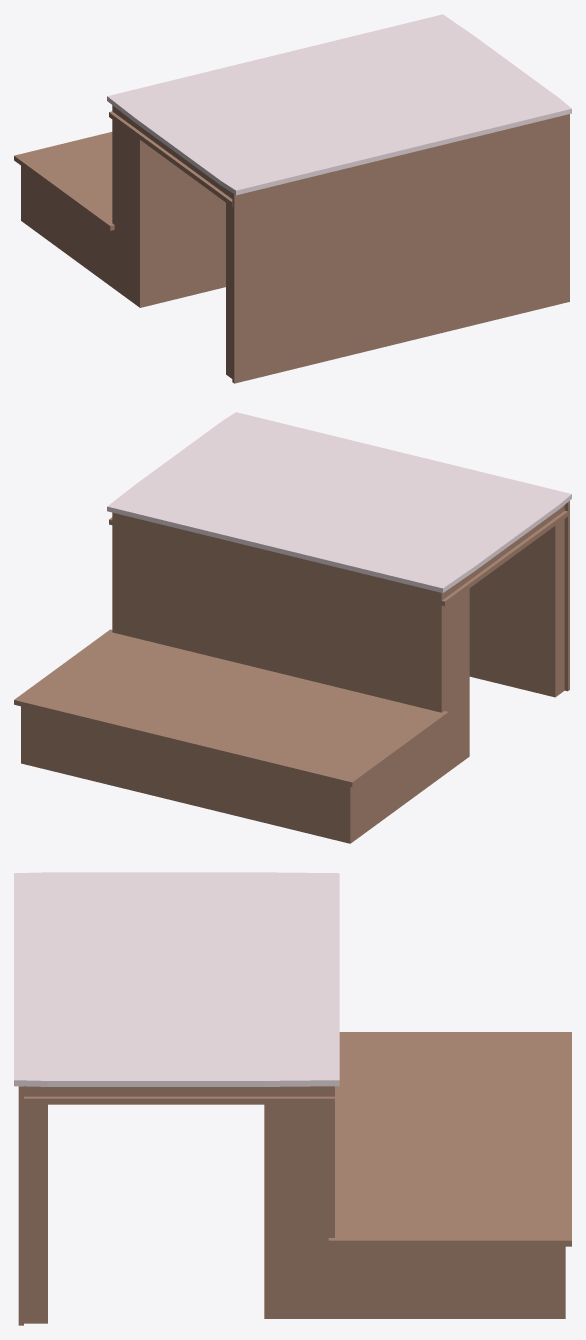
Rendered from SM_counter_part_02.fbx.
3 renders of one model, top to bottom at view 1: azimuth 30°, elevation 25°; view 2: azimuth 150°, elevation 25°; view 3: azimuth 270°, elevation 25°, orthographic. The views are drawn at different scales.
Visible parts, largest first — view 1: counter_part_02; view 2: counter_part_02; view 3: counter_part_02.
Part boxes in pixels (x1,y1,x2,y2): counter_part_02: [14, 14, 571, 383]; counter_part_02: [14, 412, 571, 843]; counter_part_02: [14, 872, 571, 1325].
Bounding box in the file's own units: 172 × 94.48 × 195.
